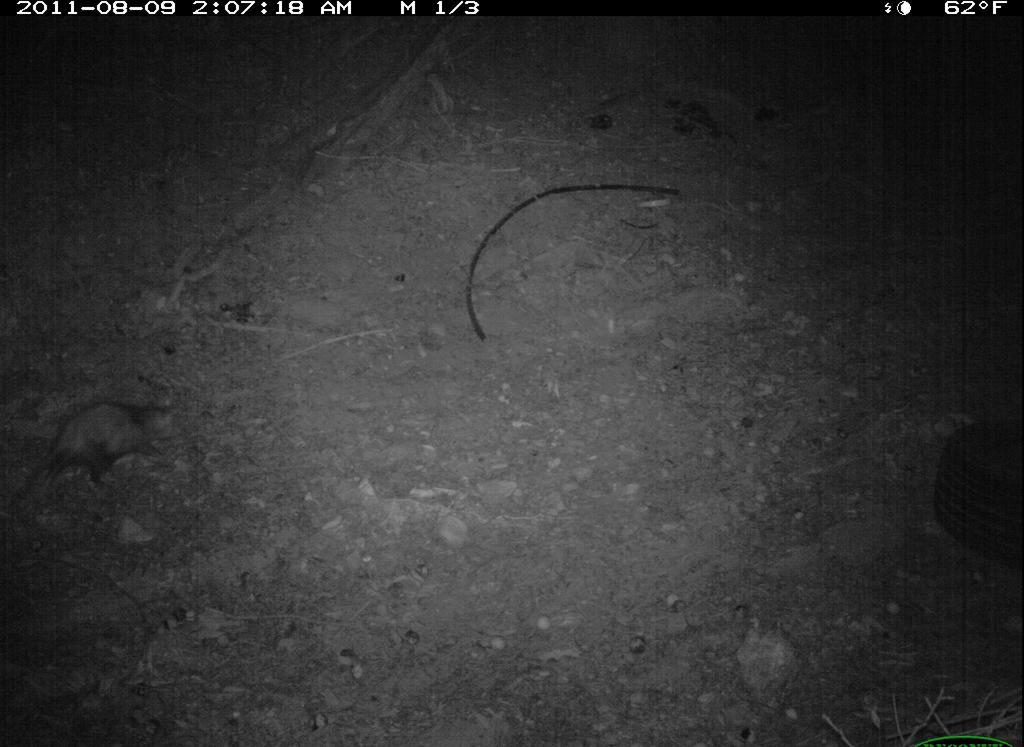opossum: (27, 381, 194, 502)
